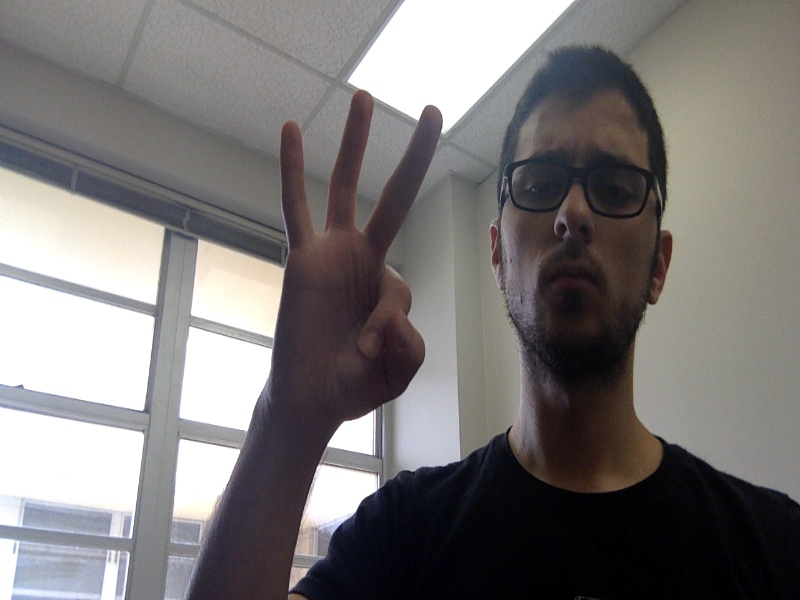3-hand: (280, 91, 442, 409)
